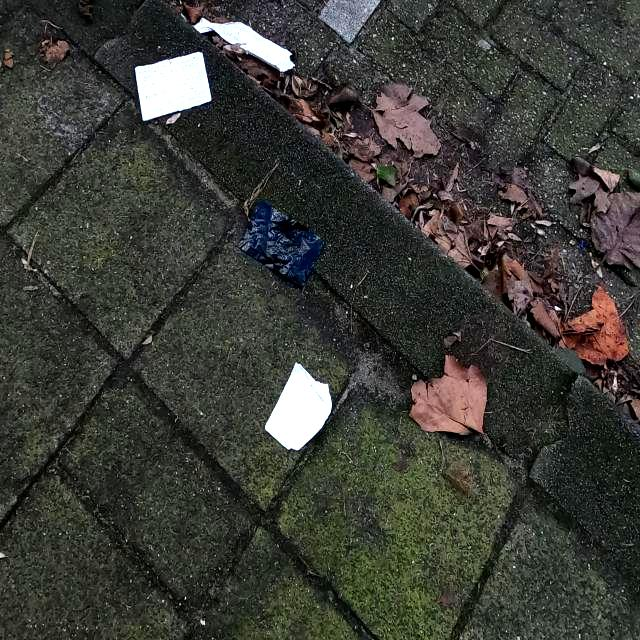Paper: (192, 14, 298, 74), (264, 360, 332, 452)
Plastic: (238, 196, 326, 290)
